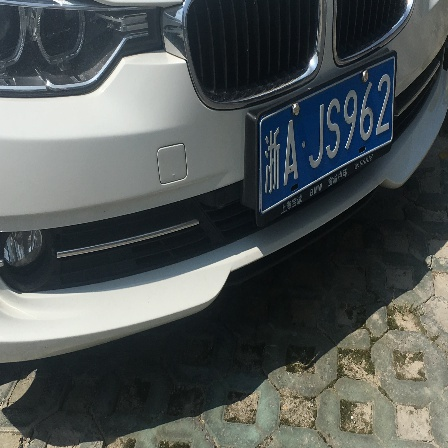plate: (260, 56, 397, 209)
